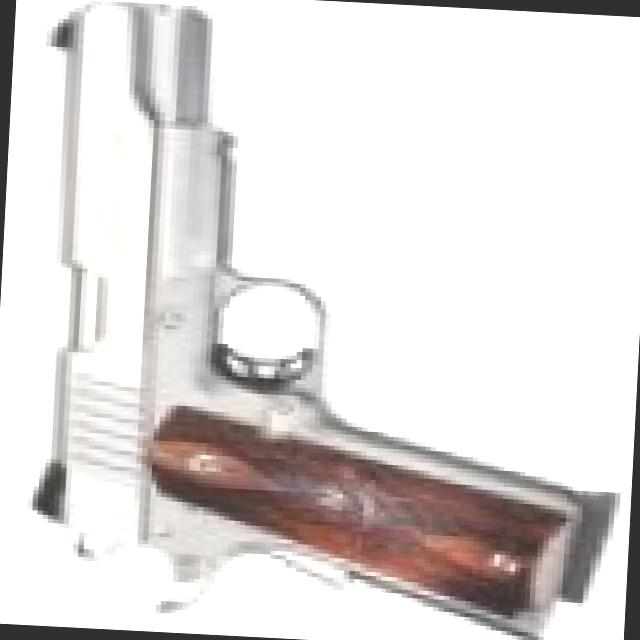handgun: (6, 0, 624, 635)
